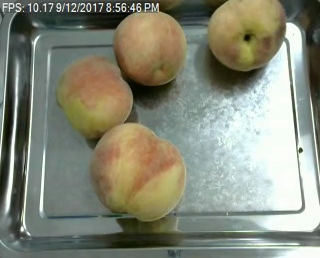Peach: (89, 123, 185, 221), (55, 54, 134, 139), (110, 7, 185, 86), (206, 0, 284, 71)
